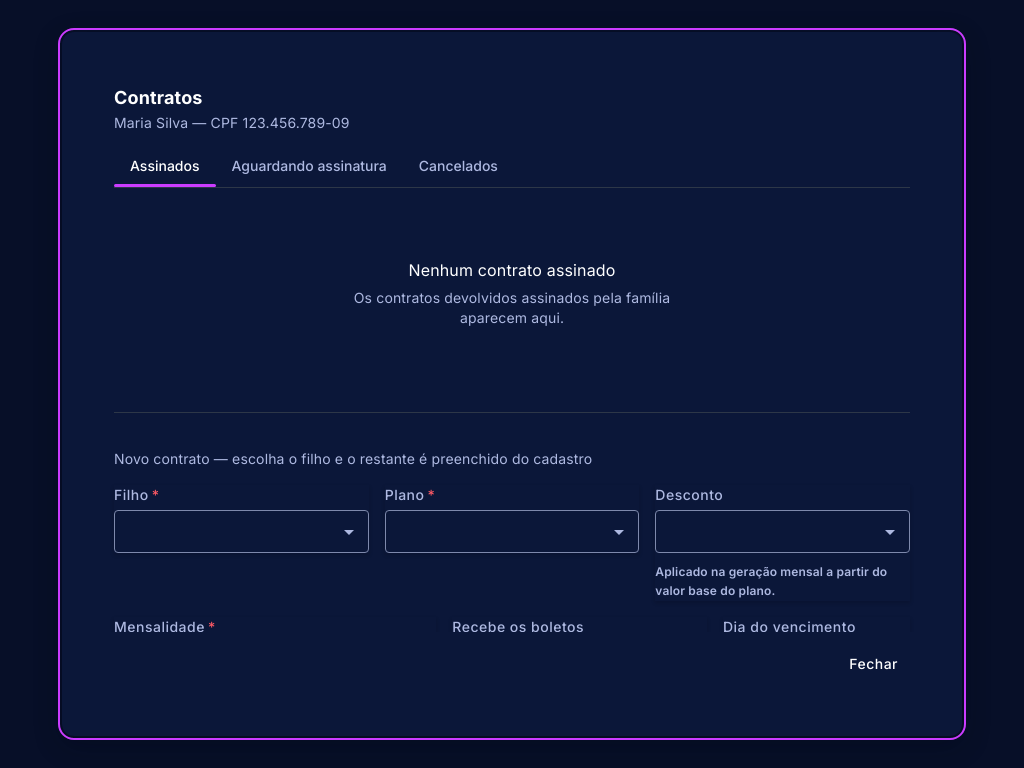
Test: GuardianContractsDialog › offers only the children linked to this guardian
The image size is (1024, 768).
Check: the text "Nenhum contrato assinado" is shown, box x1=408 y1=256 x2=616 y2=284
What coordinates should you click on to do the following:
click the 1st dropdown named "filho"
I would click on:
 (241, 532)
Its box is x1=125 y1=522 x2=358 y2=542.
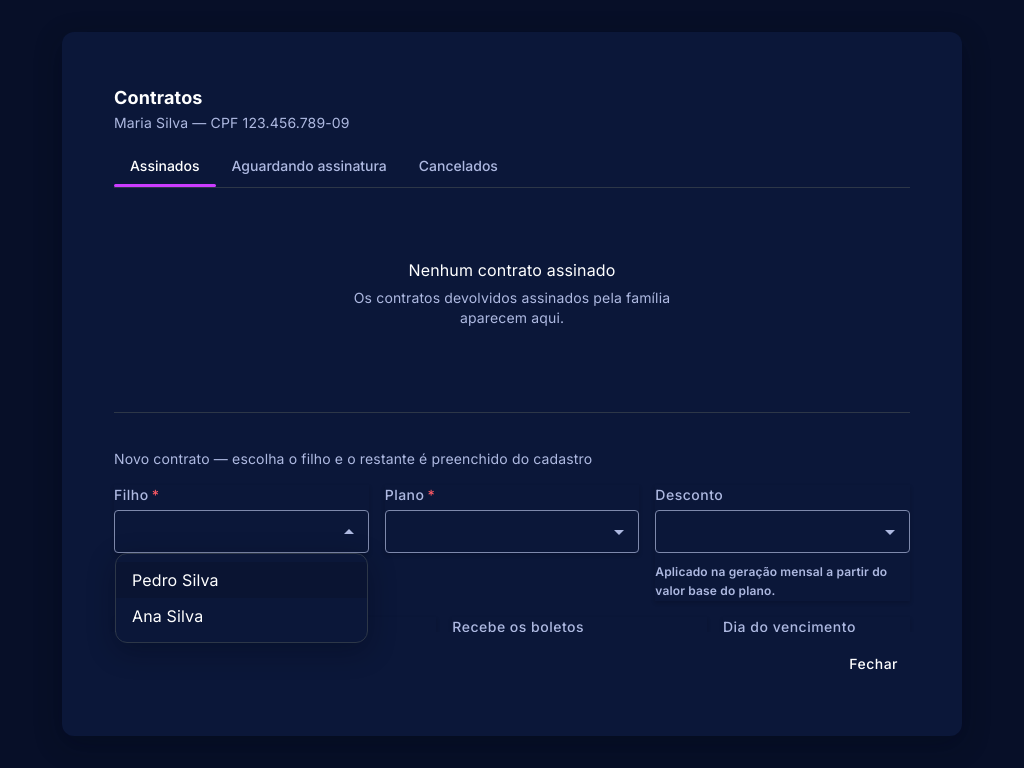
Check: the options read "Pedro Silva", "Ana Silva", in this order, box x1=116 y1=562 x2=367 y2=598; x1=132 y1=606 x2=203 y2=626
